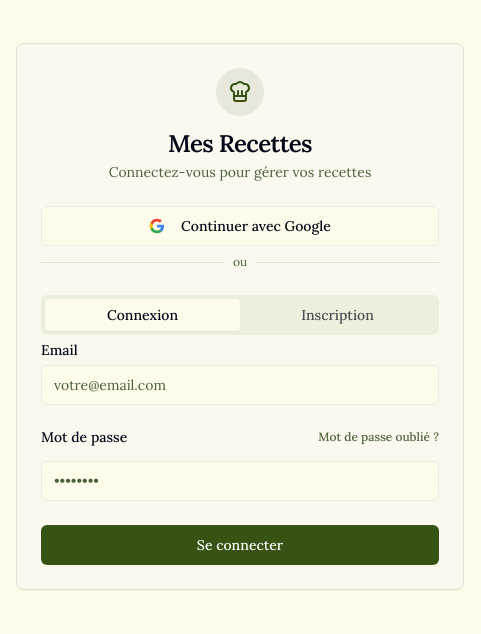
Test: Auth — affichage des erreurs › affiche un message quand la connexion échoue (identifiants invalides)
This screenshot has width=481, height=634.
Type "test@example.com" into the field labelled "Email". click: (240, 384)
box: x1=41 y1=364 x2=439 y2=404
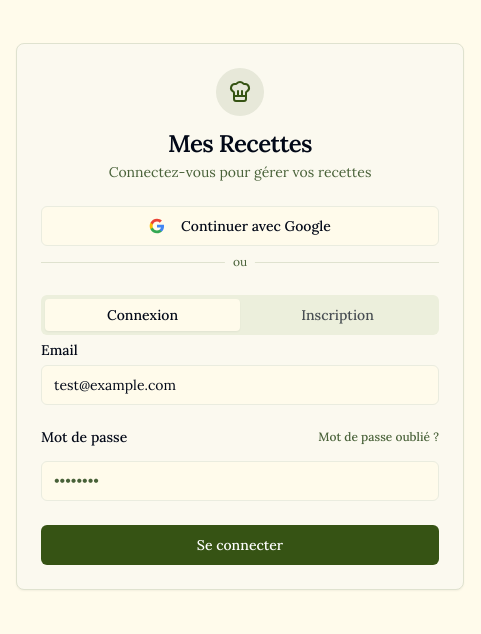
Type "password123" into the password field labelled "Mot de passe". click: (240, 480)
box: x1=41 y1=460 x2=439 y2=500
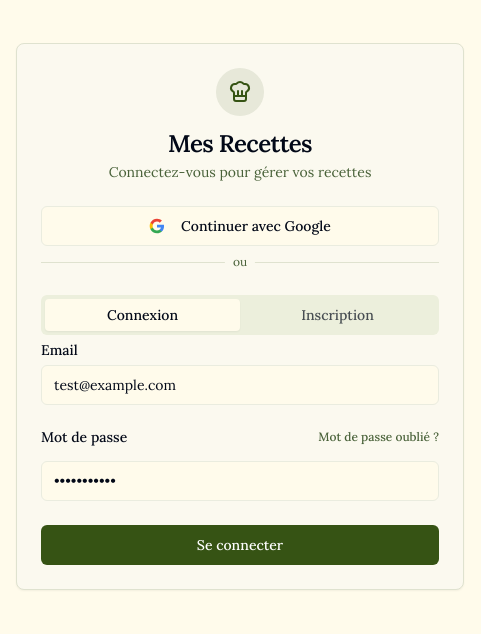
Click the button "Se connecter". click: (240, 544)
box: x1=41 y1=524 x2=439 y2=564
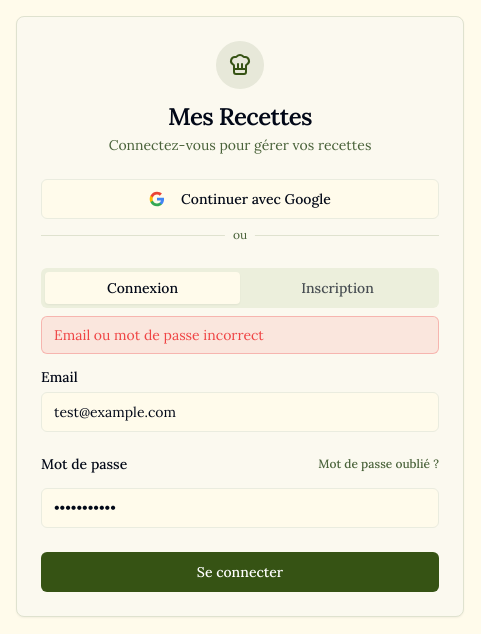
Check: the text "Email ou mot de passe incorrect" is shown, box x1=41 y1=316 x2=439 y2=354
